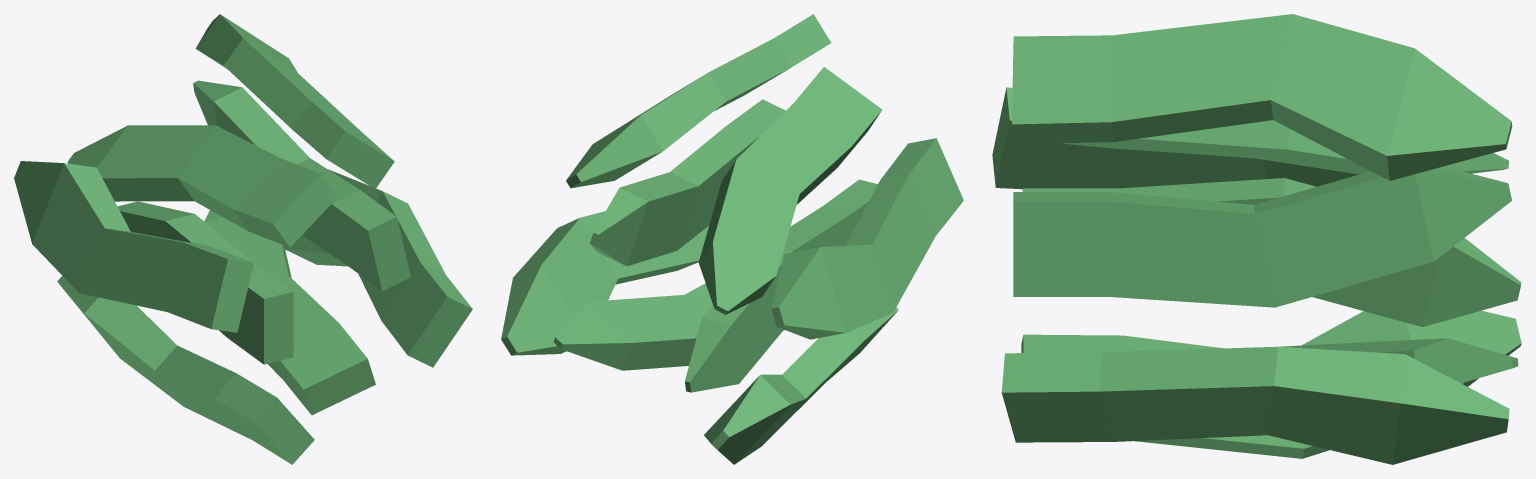
File: grass1.fbx
The picture shows the model from 3 angles, left to right: view 1: azimuth 30°, elevation 25°; view 2: azimuth 150°, elevation 25°; view 3: azimuth 270°, elevation 25°; orthographic projection. The views are drawn at different scales.
Visible parts, largest first — view 1: Cube; view 2: Cube; view 3: Cube.
Boxes of the visible parts, x1=… form: Cube: x1=14, y1=14, x2=472, y2=464; Cube: x1=501, y1=14, x2=963, y2=464; Cube: x1=992, y1=14, x2=1521, y2=464.
Bounding box in the file's own units: 87.56 × 90.07 × 89.69.
